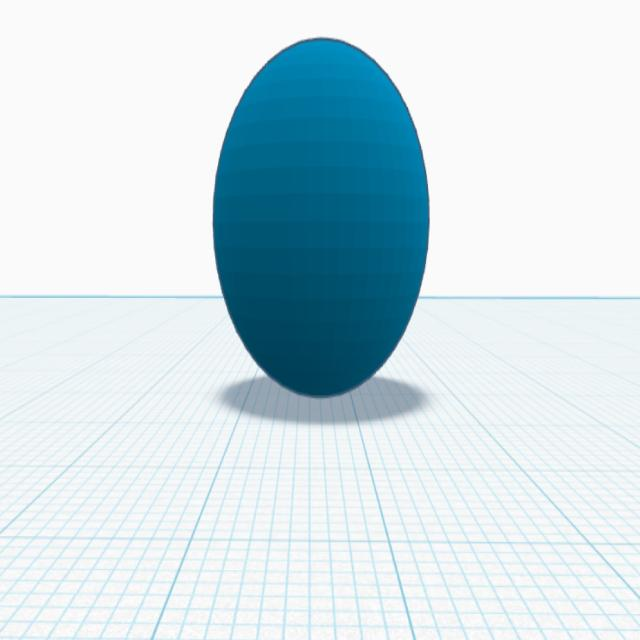sphere: (207, 28, 435, 404)
